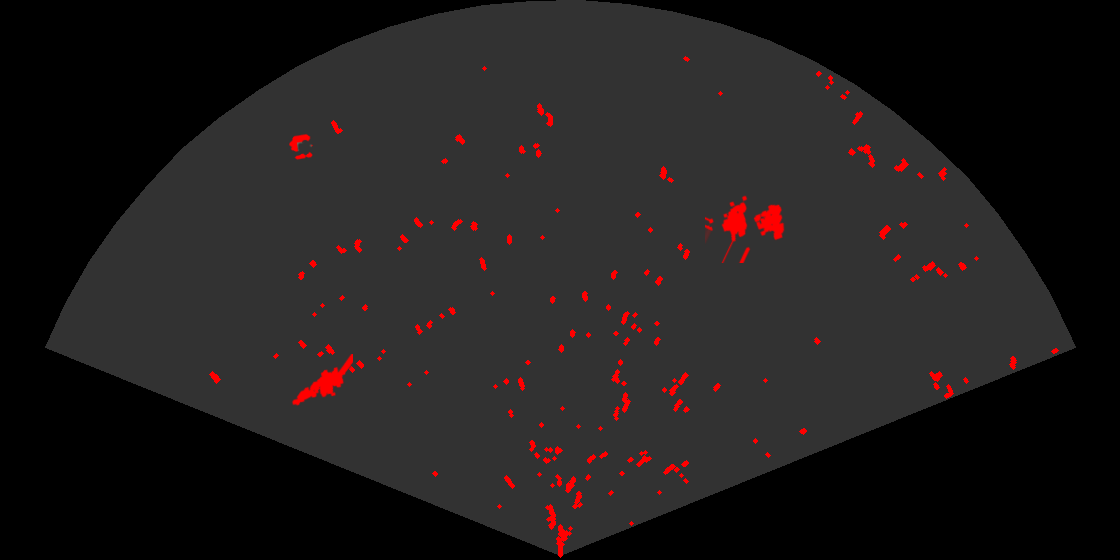ball: (288, 132, 315, 161)
cage: (705, 194, 786, 263)
frogman: (290, 354, 353, 407)
